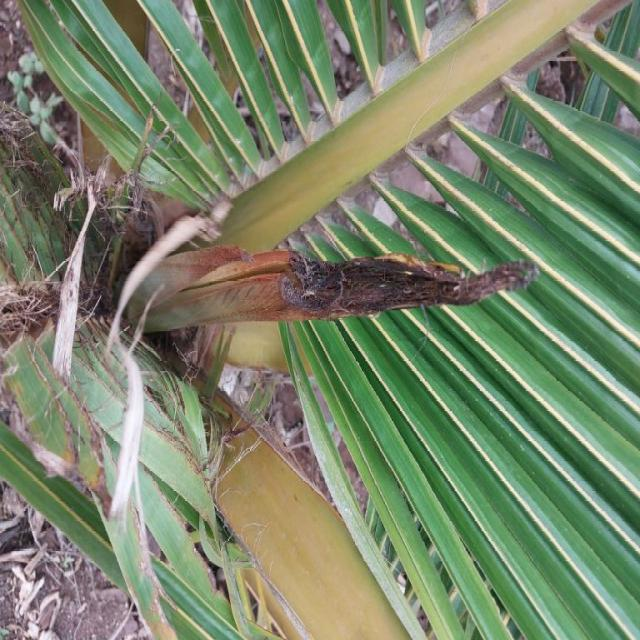bud rot: (130, 245, 536, 332)
